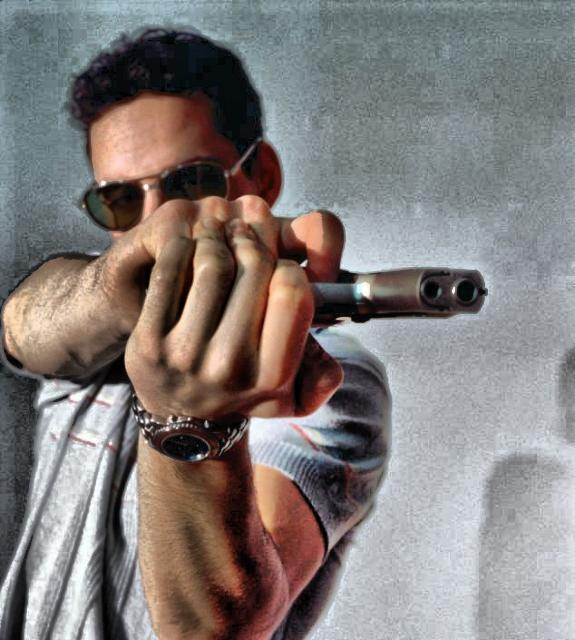pistol: (264, 259, 494, 335)
